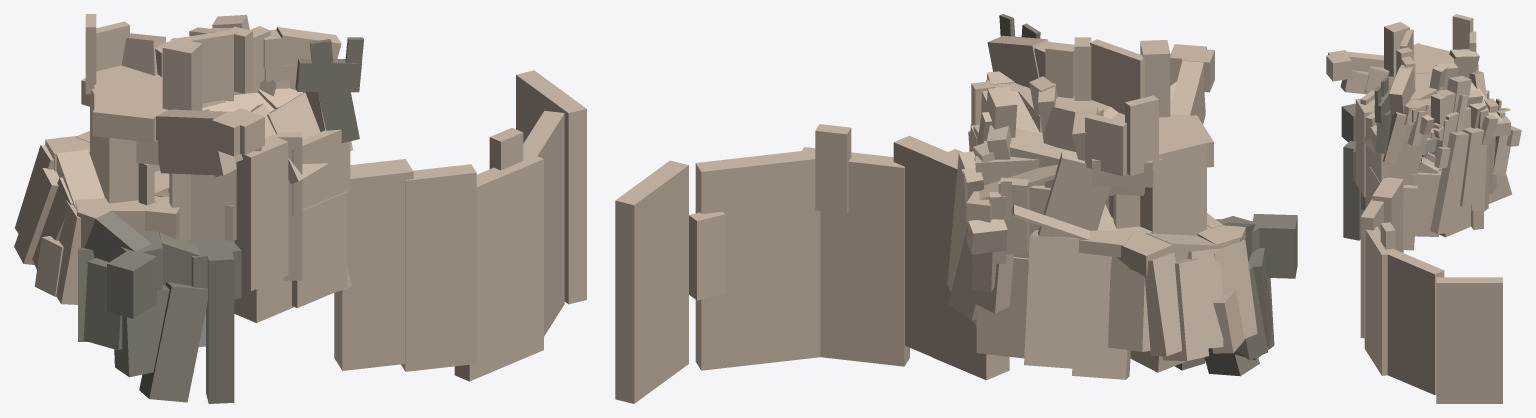
Rendered from p_Cave.fbx.
3 views of the same model, side by side, from view 1: azimuth 30°, elevation 25°; view 2: azimuth 150°, elevation 25°; view 3: azimuth 270°, elevation 25° (orthographic). The views are drawn at different scales.
Parts seen in each view (by area): view 1: Wall_Smell__93_, Wall_Smell__92_, Wall_Smell__94_, Wall_Smell__14_, Wall_Smell__95_, Wall_Smell__96_, SmellRamp_1__11_, Wall_Smell__8_, SmellRamp_1__18_, Wall_Smell__3_, SmellRamp_1__20_, Wall_Smell__2_ (+47 smaller); view 2: Wall_Smell__96_, Wall_Smell__92_, Wall_Smell__95_, Wall_Smell__106_, Wall_Smell__94_, Wall_Smell__93_, Wall_Smell__105_, Wall_Smell__2_, Wall_Smell__43__2, Wall_Smell__104_, Wall_Smell__6_, Wall_Smell__108_ (+46 smaller); view 3: Wall_Smell__95_, Wall_Smell__96_, Wall_Smell__92_, Wall_Smell__40_, SmellRamp_1__18_, Wall_Smell__16_, Wall_Smell__94_, Wall_Smell__64_, Wall_Smell__93_, Wall_Smell__12_, Wall_Smell__14_, Wall_Smell__91_ (+47 smaller).
Part boxes in pixels (box(x1,y1,x2,y2)): Wall_Smell__93_: box(401, 164, 476, 371); Wall_Smell__92_: box(454, 156, 543, 381); Wall_Smell__94_: box(334, 159, 413, 370); Wall_Smell__14_: box(234, 136, 288, 290); Wall_Smell__95_: box(516, 70, 586, 304); Wall_Smell__96_: box(523, 110, 564, 336); SmellRamp_1__11_: box(139, 282, 207, 402); Wall_Smell__8_: box(292, 191, 347, 308); SmellRamp_1__18_: box(206, 248, 234, 403); Wall_Smell__3_: box(292, 129, 350, 215); SmellRamp_1__20_: box(107, 250, 156, 318); Wall_Smell__2_: box(90, 89, 138, 203); Wall_Smell__96_: box(695, 149, 820, 370); Wall_Smell__92_: box(799, 147, 909, 366); Wall_Smell__95_: box(615, 160, 688, 403); Wall_Smell__106_: box(1024, 230, 1079, 368); Wall_Smell__94_: box(932, 149, 1009, 380); Wall_Smell__93_: box(893, 135, 947, 356); Wall_Smell__105_: box(1072, 246, 1130, 379); Wall_Smell__2_: box(1140, 158, 1206, 235); Wall_Smell__43__2: box(1028, 151, 1110, 272); Wall_Smell__104_: box(1108, 256, 1150, 351); Wall_Smell__6_: box(976, 257, 1028, 358); Wall_Smell__108_: box(689, 212, 725, 300); Wall_Smell__95_: box(1436, 277, 1502, 403); Wall_Smell__96_: box(1387, 249, 1444, 394); Wall_Smell__92_: box(1364, 226, 1394, 375); Wall_Smell__40_: box(1430, 131, 1468, 233); SmellRamp_1__18_: box(1343, 141, 1363, 240); Wall_Smell__16_: box(1411, 171, 1441, 236); Wall_Smell__94_: box(1372, 177, 1403, 252); Wall_Smell__64_: box(1460, 127, 1486, 206); Wall_Smell__93_: box(1360, 199, 1383, 338); Wall_Smell__12_: box(1388, 125, 1428, 184); Wall_Smell__14_: box(1355, 99, 1374, 197); Wall_Smell__91_: box(1402, 185, 1417, 250).
Size of the model in its own units: 5991 by 4012 by 2932.
